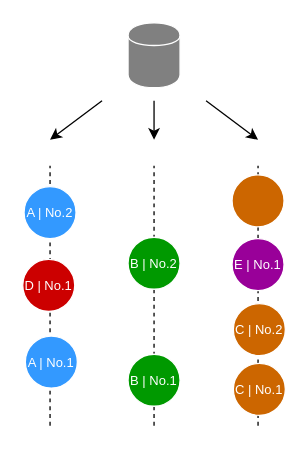
Some shapes in this 308 by 450 pixel diagram are drawn without their labels. The shapes that lost their labels are listed below. From the top down, each one's centre as x and y in pixels, then its label:
At [153,54]: "Data Source".
At [257,200]: "C | No.3".
